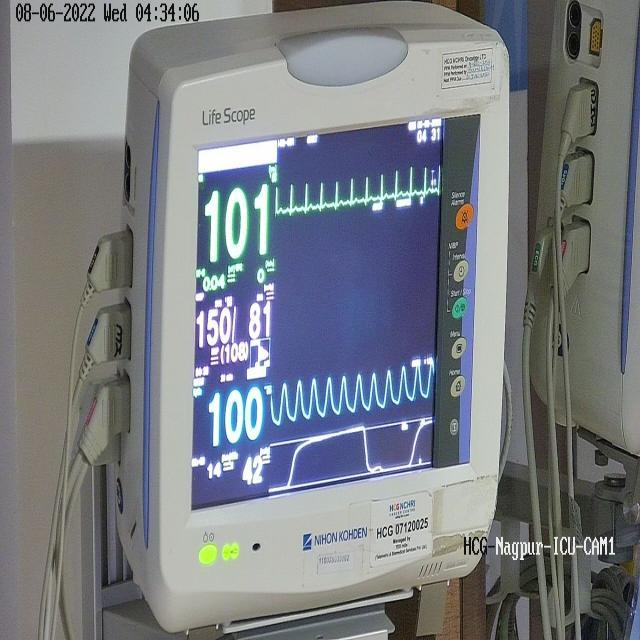Monitor: (111, 3, 511, 636)
